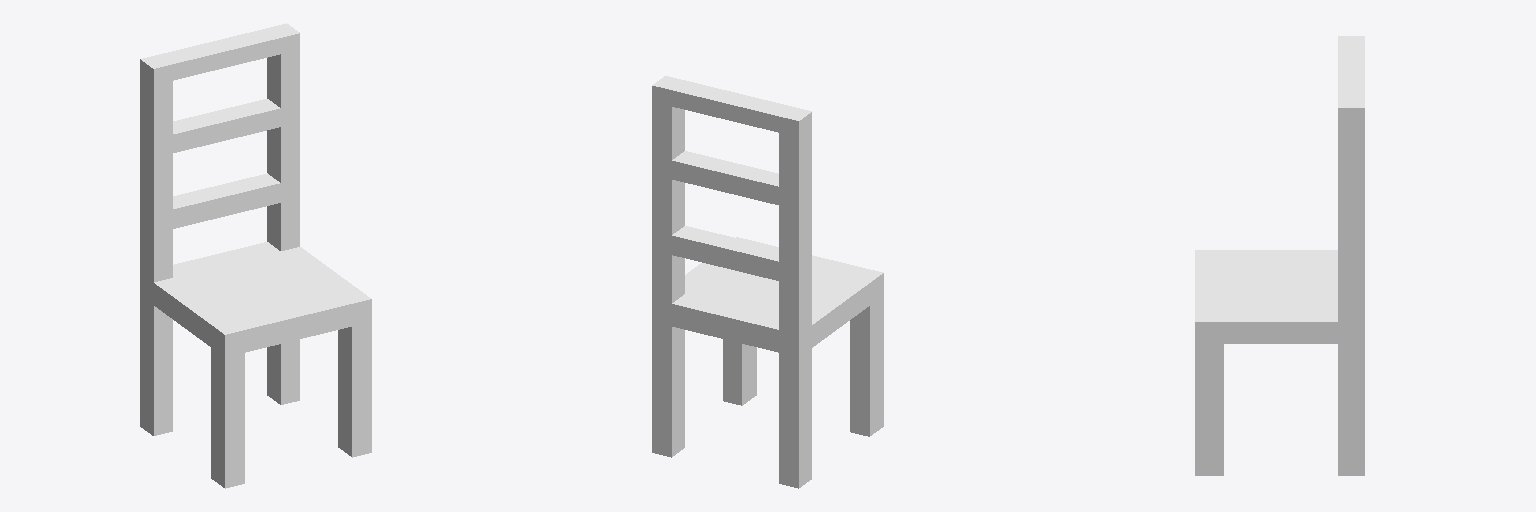
File: Chair.obj
3 renders of one model, left to right at view 1: azimuth 30°, elevation 25°; view 2: azimuth 150°, elevation 25°; view 3: azimuth 270°, elevation 25°, orthographic.
Visible parts, largest first — view 1: Chair; view 2: Chair; view 3: Chair.
Part boxes in pixels (left/top/right/bottom): Chair: left=140, top=23, right=371, bottom=488; Chair: left=652, top=76, right=883, bottom=488; Chair: left=1195, top=36, right=1364, bottom=475.
Bounding box in the file's own units: 0.4572 × 1.09 × 0.4572.